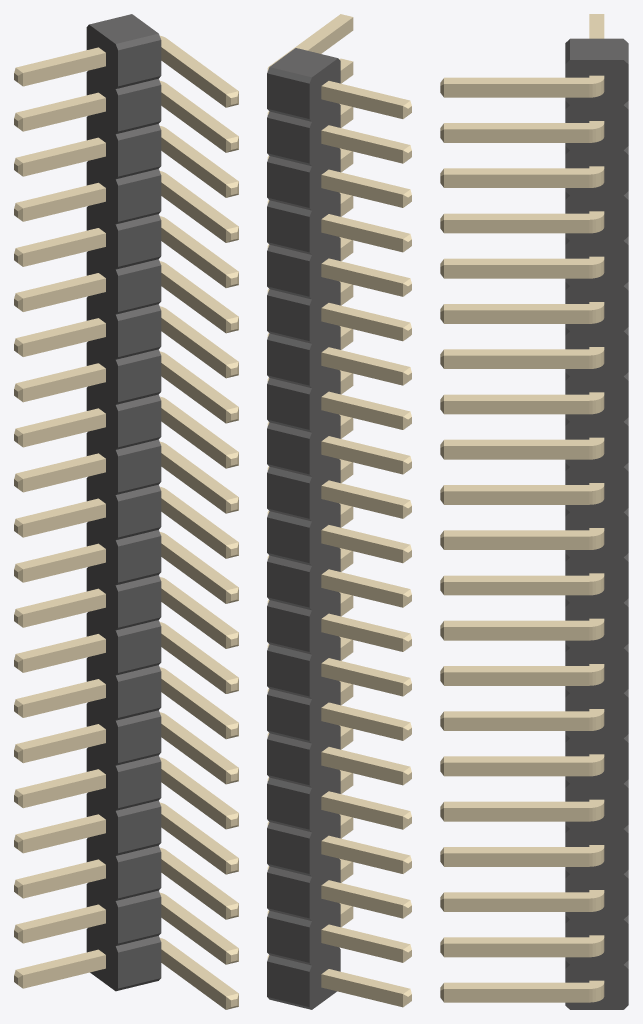
File: PinHeader_1x21_P1.00mm_Horizontal.glb
3 views of the same model, side by side, from view 1: azimuth 30°, elevation 25°; view 2: azimuth 150°, elevation 25°; view 3: azimuth 270°, elevation 25° (orthographic).
Parts seen in each view (by area): view 1: Shape_IndexedFaceSet.004, Shape_IndexedFaceSet.010, Shape_IndexedFaceSet.016, Shape_IndexedFaceSet.022, Shape_IndexedFaceSet.028, Shape_IndexedFaceSet.034, Shape_IndexedFaceSet.070, Shape_IndexedFaceSet.076, Shape_IndexedFaceSet.082, Shape_IndexedFaceSet.088, Shape_IndexedFaceSet.100, Shape_IndexedFaceSet.118 (+95 smaller); view 2: Shape_IndexedFaceSet.004, Shape_IndexedFaceSet.055, Shape_IndexedFaceSet.013, Shape_IndexedFaceSet.025, Shape_IndexedFaceSet.085, Shape_IndexedFaceSet.097, Shape_IndexedFaceSet.115, Shape_IndexedFaceSet.019, Shape_IndexedFaceSet.031, Shape_IndexedFaceSet.037, Shape_IndexedFaceSet.043, Shape_IndexedFaceSet.049 (+55 smaller); view 3: Shape_IndexedFaceSet.003, Shape_IndexedFaceSet.314, Shape_IndexedFaceSet.384, Shape_IndexedFaceSet.304, Shape_IndexedFaceSet.310, Shape_IndexedFaceSet.324, Shape_IndexedFaceSet.329, Shape_IndexedFaceSet.344, Shape_IndexedFaceSet.354, Shape_IndexedFaceSet.359, Shape_IndexedFaceSet.365, Shape_IndexedFaceSet.389 (+32 smaller).
Boxes of the visible parts, box(x1,y1,x2,y2) form: Shape_IndexedFaceSet.004: box(86, 25, 117, 991); Shape_IndexedFaceSet.010: box(118, 85, 161, 131); Shape_IndexedFaceSet.016: box(118, 130, 161, 176); Shape_IndexedFaceSet.022: box(118, 175, 161, 221); Shape_IndexedFaceSet.028: box(118, 220, 161, 266); Shape_IndexedFaceSet.034: box(118, 265, 161, 311); Shape_IndexedFaceSet.070: box(118, 536, 161, 582); Shape_IndexedFaceSet.076: box(118, 581, 161, 627); Shape_IndexedFaceSet.082: box(118, 626, 161, 672); Shape_IndexedFaceSet.088: box(118, 671, 161, 717); Shape_IndexedFaceSet.100: box(118, 761, 161, 808); Shape_IndexedFaceSet.118: box(118, 897, 161, 943); Shape_IndexedFaceSet.004: box(309, 58, 340, 1009); Shape_IndexedFaceSet.055: box(267, 428, 309, 474); Shape_IndexedFaceSet.013: box(267, 117, 309, 163); Shape_IndexedFaceSet.025: box(267, 206, 309, 252); Shape_IndexedFaceSet.085: box(267, 650, 309, 696); Shape_IndexedFaceSet.097: box(267, 739, 309, 785); Shape_IndexedFaceSet.115: box(267, 872, 309, 918); Shape_IndexedFaceSet.019: box(267, 162, 309, 207); Shape_IndexedFaceSet.031: box(267, 251, 309, 296); Shape_IndexedFaceSet.037: box(267, 295, 309, 340); Shape_IndexedFaceSet.043: box(267, 340, 309, 385); Shape_IndexedFaceSet.049: box(267, 384, 309, 429); Shape_IndexedFaceSet.003: box(565, 60, 628, 1009); Shape_IndexedFaceSet.314: box(444, 762, 589, 776); Shape_IndexedFaceSet.384: box(444, 943, 589, 957); Shape_IndexedFaceSet.304: box(444, 853, 589, 866); Shape_IndexedFaceSet.310: box(444, 808, 589, 821); Shape_IndexedFaceSet.324: box(444, 627, 589, 640); Shape_IndexedFaceSet.329: box(444, 672, 589, 685); Shape_IndexedFaceSet.344: box(444, 265, 589, 278); Shape_IndexedFaceSet.354: box(444, 310, 589, 323); Shape_IndexedFaceSet.359: box(444, 491, 589, 504); Shape_IndexedFaceSet.365: box(444, 446, 589, 459); Shape_IndexedFaceSet.389: box(444, 989, 589, 1002).
Bounding box in the file's own units: 1.34 × 8.27 × 1.48.
